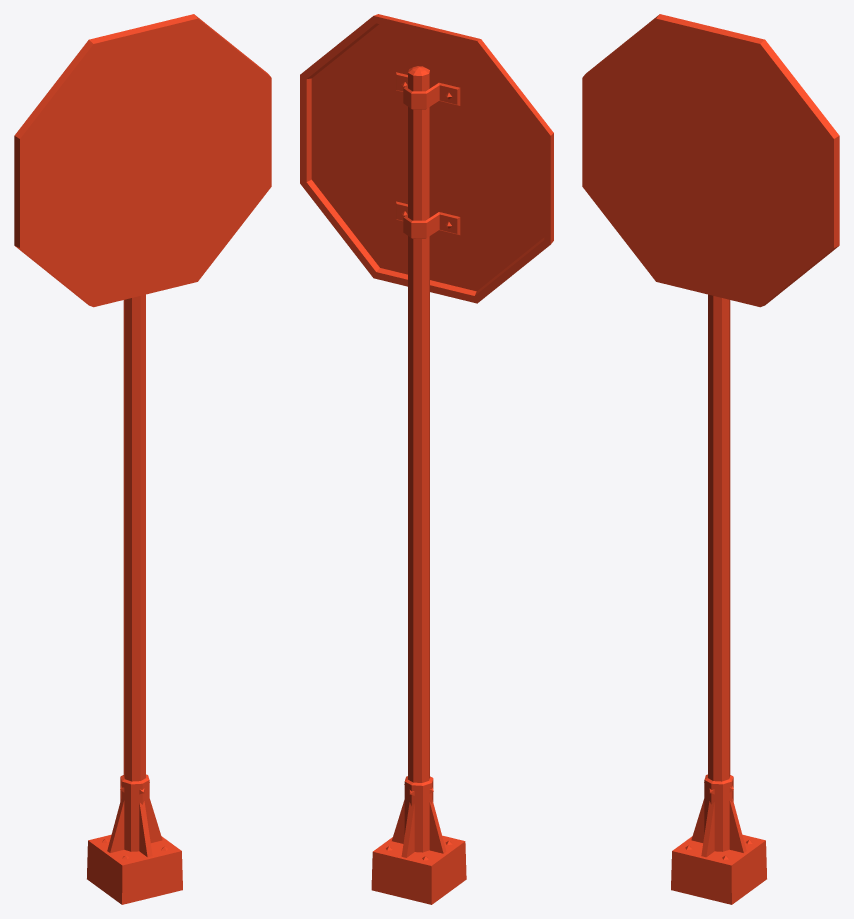
File: SM_Sign_Stop_B_City.fbx
The picture shows the model from 3 angles, left to right: view 1: azimuth 30°, elevation 25°; view 2: azimuth 150°, elevation 25°; view 3: azimuth 330°, elevation 25°; orthographic projection.
Visible parts, largest first — view 1: SM_Sign_Stop_B_City; view 2: SM_Sign_Stop_B_City; view 3: SM_Sign_Stop_B_City.
Part boxes in pixels (x1,y1,x2,y2): SM_Sign_Stop_B_City: [14, 14, 271, 904]; SM_Sign_Stop_B_City: [300, 14, 553, 904]; SM_Sign_Stop_B_City: [582, 14, 839, 904].
Bounding box in the file's own units: 0.7649 × 2.48 × 0.1839.
